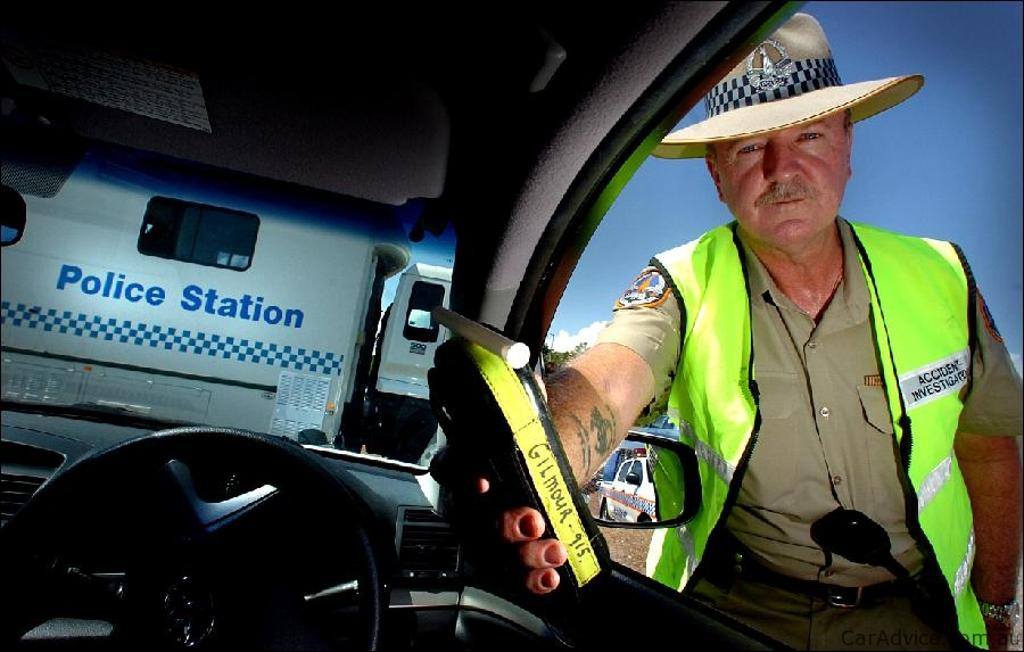face: (728, 100, 844, 236)
